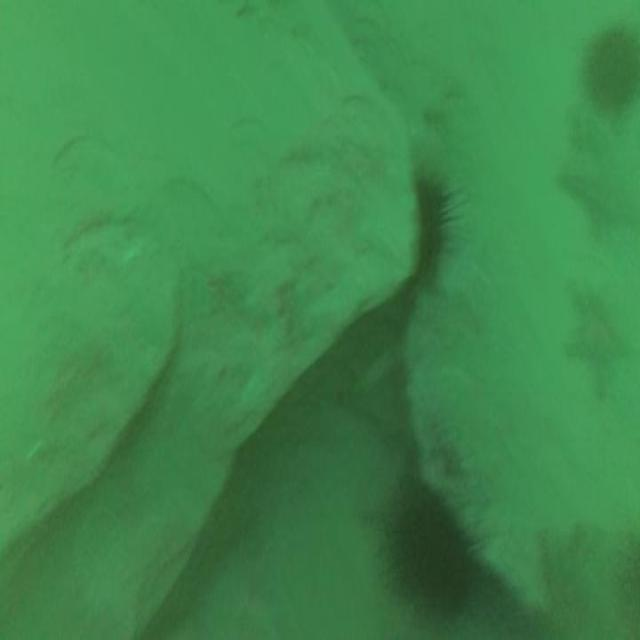echinus: (382, 463, 493, 634), (411, 160, 470, 297), (580, 17, 639, 114)
starfish: (569, 275, 633, 401)
